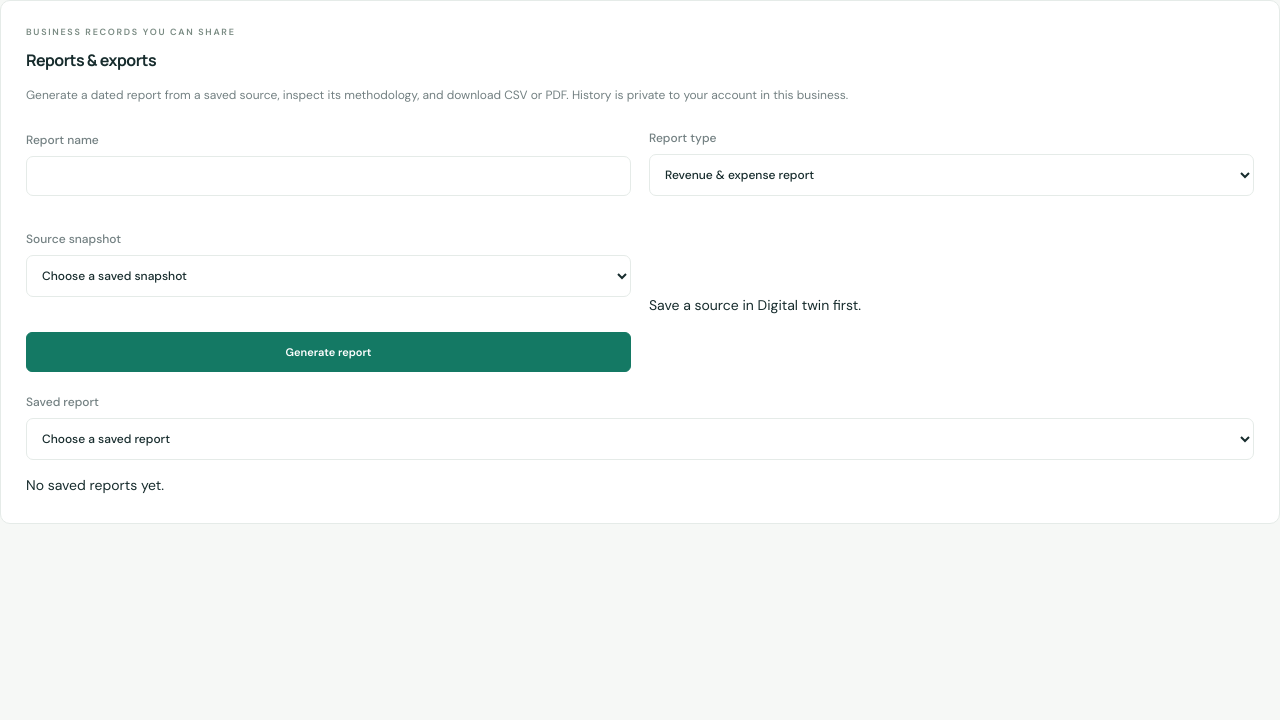
Test: Business reports › reports invalid sources without fabricating a report
Check: the text "No saved reports yet." is shown, box [26,476,164,494]
In the field labelled "Report name": (328, 176) [26,156,631,196], type "Monthly review"
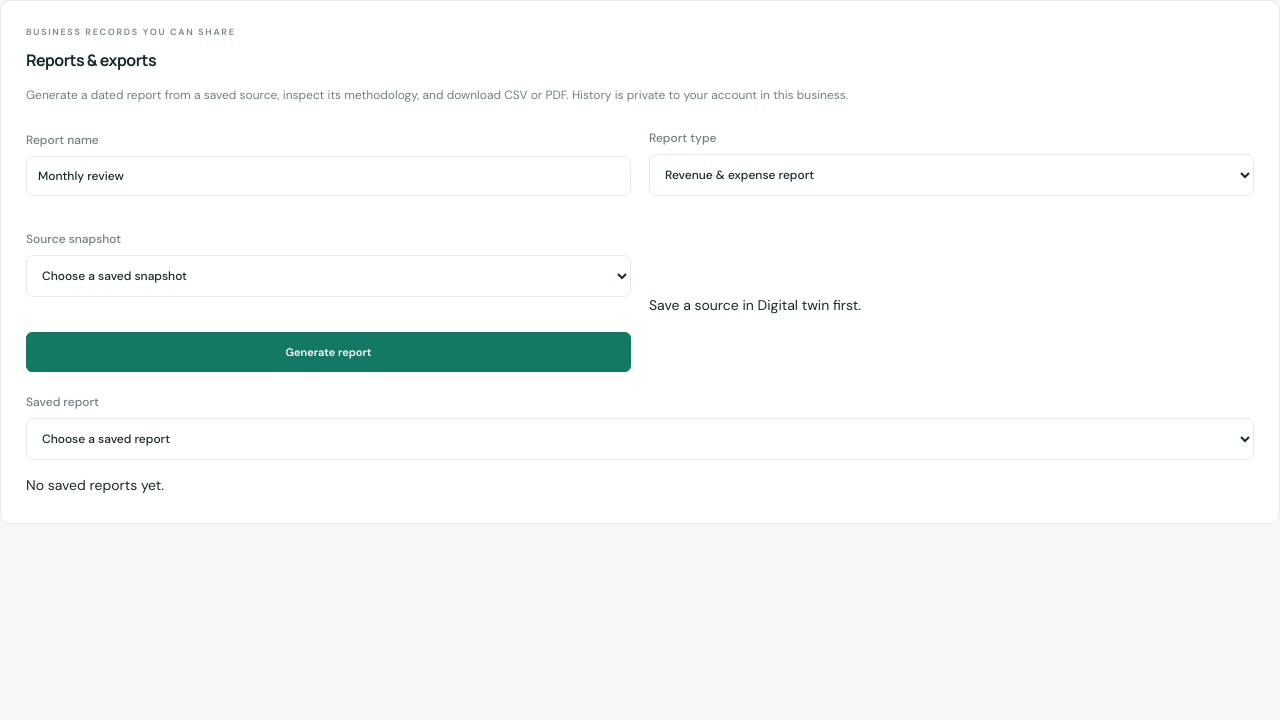
Submit the form named "Generate report", box [26,130,1254,372]
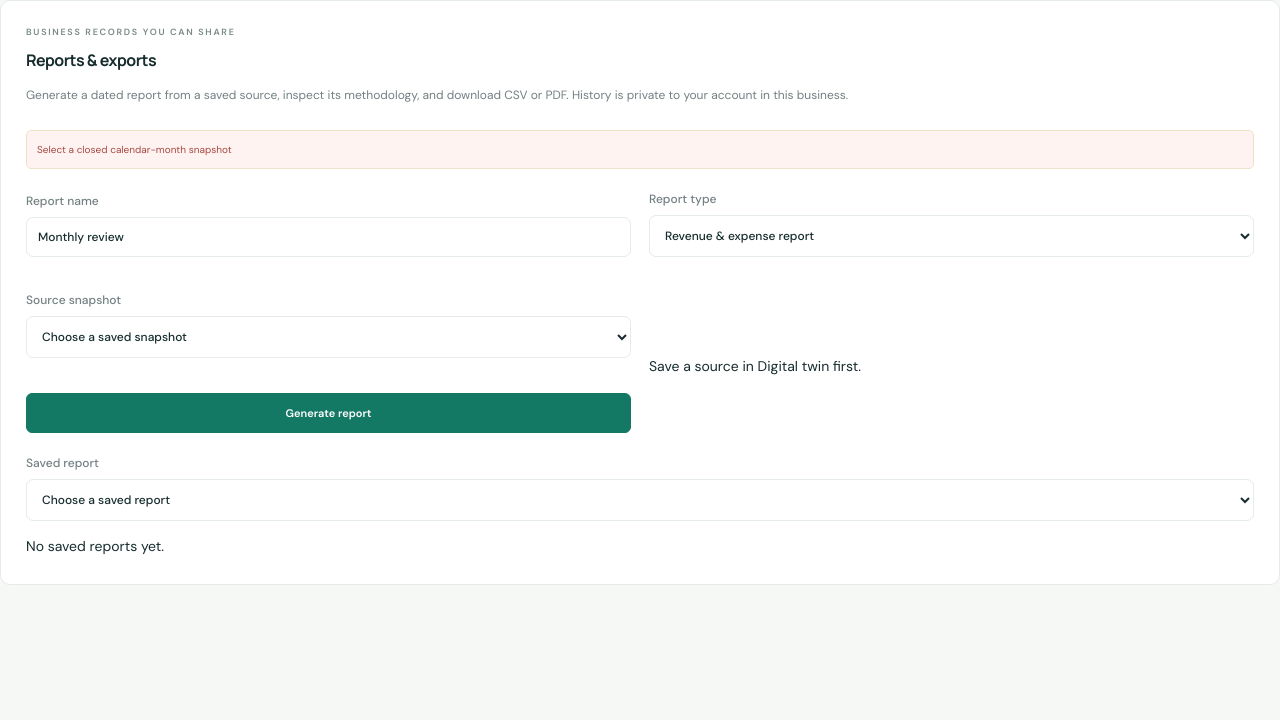
Check: the message reads "Select a closed calendar-month snapshot", box [37,143,232,156]
